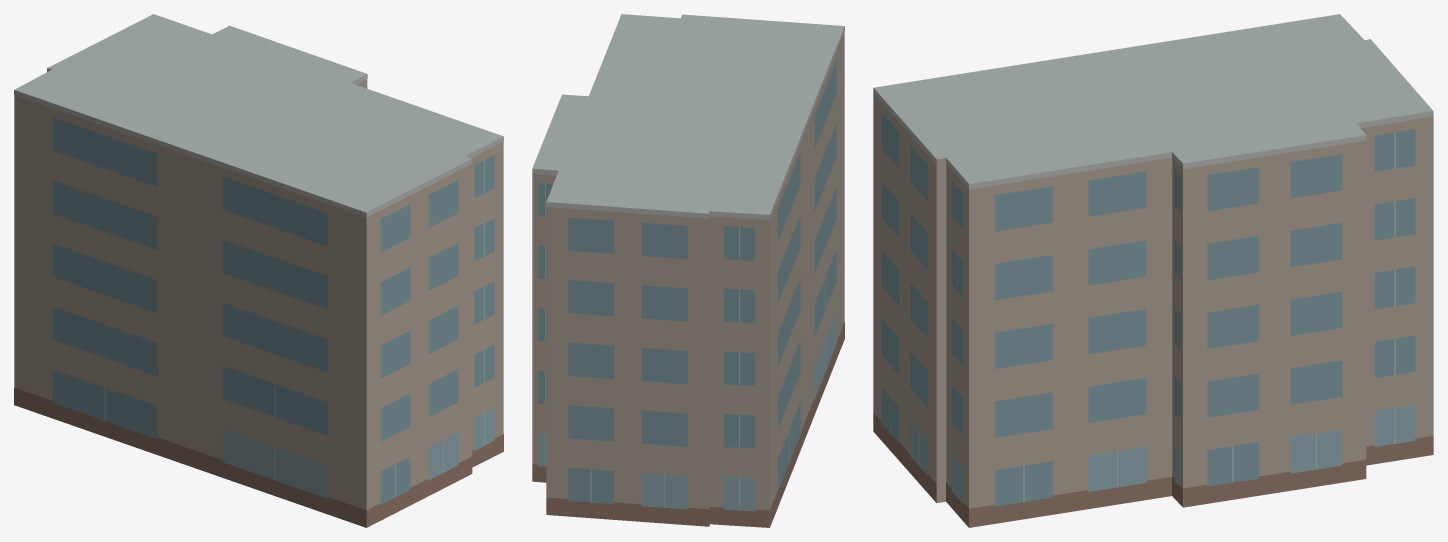
File: survey-upis-32988801.glb
The picture shows the model from 3 angles, left to right: view 1: azimuth 30°, elevation 25°; view 2: azimuth 150°, elevation 25°; view 3: azimuth 270°, elevation 25°; orthographic projection. The views are drawn at different scales.
Visible parts, largest first — view 1: survey-upis-32988801.tmp; view 2: survey-upis-32988801.tmp; view 3: survey-upis-32988801.tmp.
Part boxes in pixels (bbox=[...]): survey-upis-32988801.tmp: bbox=[14, 14, 503, 527]; survey-upis-32988801.tmp: bbox=[532, 14, 844, 527]; survey-upis-32988801.tmp: bbox=[873, 14, 1433, 527].
Bounding box in the file's own units: 16.18 × 15.25 × 22.52.
